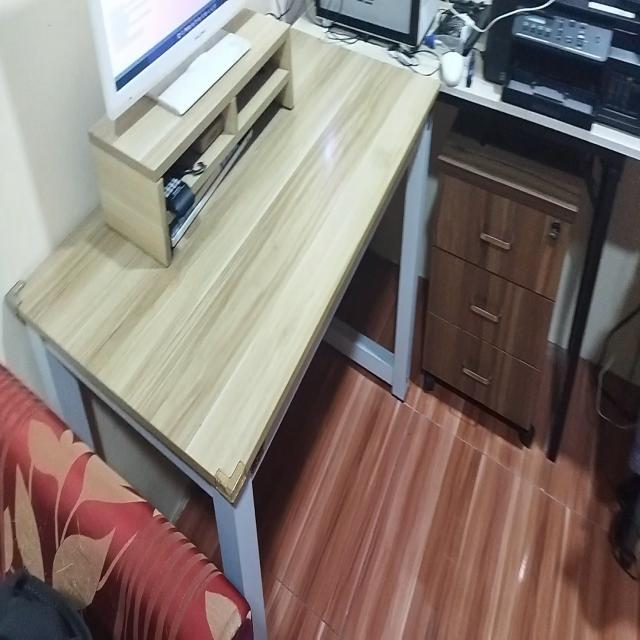table: (11, 0, 434, 529)
